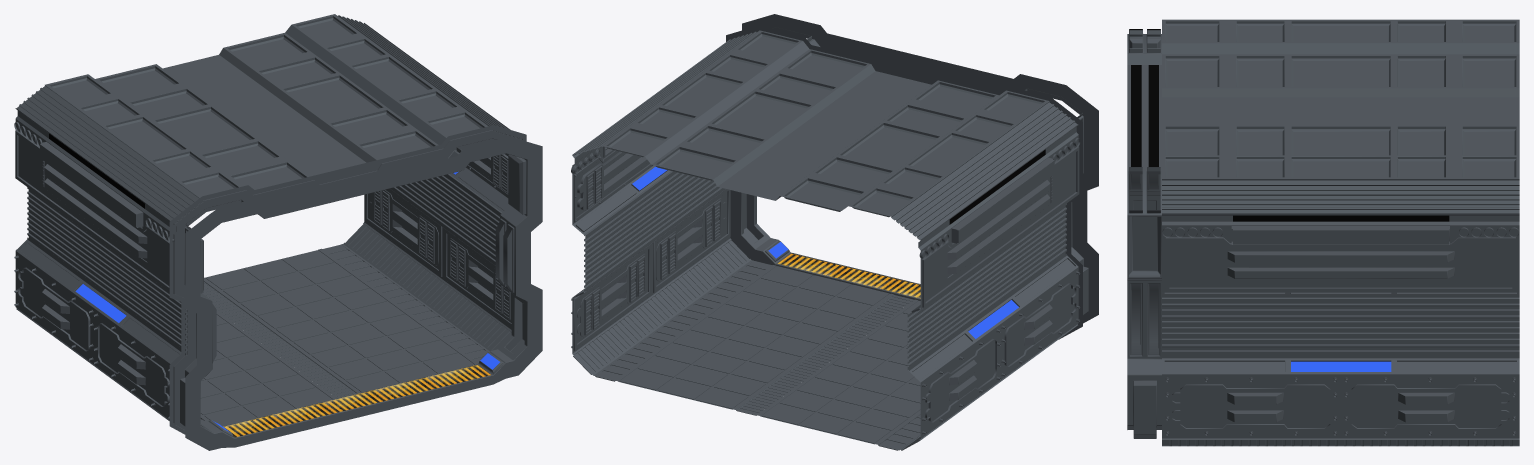
Rendered from corridor_0.fbx.
3 views of the same model, side by side, from view 1: azimuth 30°, elevation 25°; view 2: azimuth 150°, elevation 25°; view 3: azimuth 270°, elevation 25° (orthographic). The views are drawn at different scales.
Parts seen in each view (by area): view 1: Corridor, Floor, Other, Other_2, Frame, Frame_2; view 2: Corridor, Floor, Other, Other_2, Frame, Frame_2, Cylinders; view 3: Corridor, Other_2, Other, Frame_2, Bolts.
Part boxes in pixels (<box>): Corridor: <box>15,14,542,450</box>; Floor: <box>200,244,489,425</box>; Other: <box>18,189,511,406</box>; Other_2: <box>42,149,508,262</box>; Frame: <box>364,188,511,328</box>; Frame_2: <box>15,130,508,290</box>; Corridor: <box>572,14,1098,450</box>; Floor: <box>593,260,920,450</box>; Other: <box>577,198,1076,422</box>; Other_2: <box>577,151,1052,277</box>; Frame: <box>573,189,730,350</box>; Frame_2: <box>574,146,1079,307</box>; Cylinders: <box>571,138,1079,259</box>; Corridor: <box>1127,19,1519,446</box>; Other_2: <box>1223,249,1458,279</box>; Other: <box>1172,384,1509,428</box>; Frame_2: <box>1165,237,1515,291</box>; Bolts: <box>1165,377,1516,435</box>.
Size of the model in its own units: 1318 by 847 by 1097.
